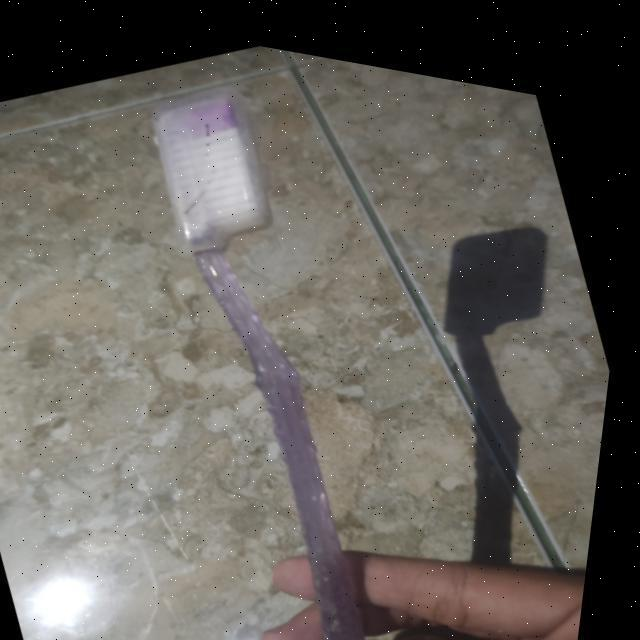toothbrush: (79, 48, 501, 640)
